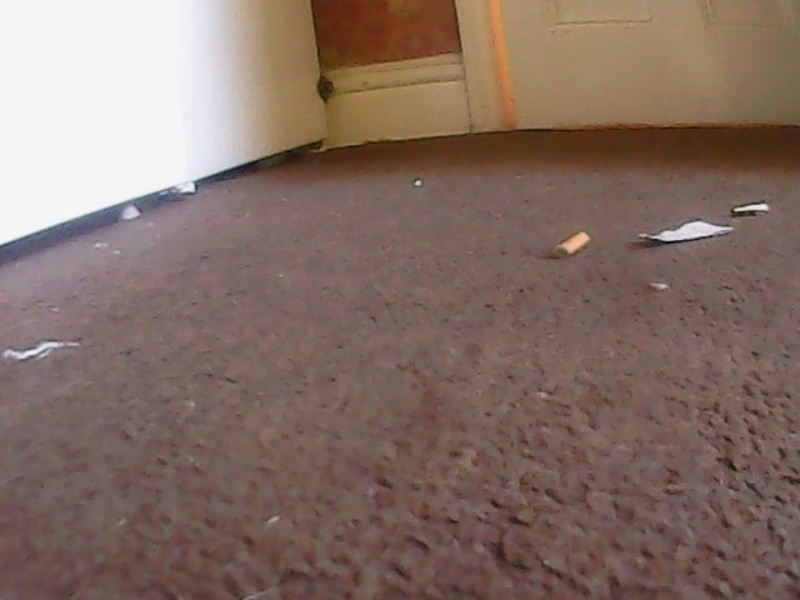cig: (550, 228, 594, 261), (729, 200, 770, 217)
